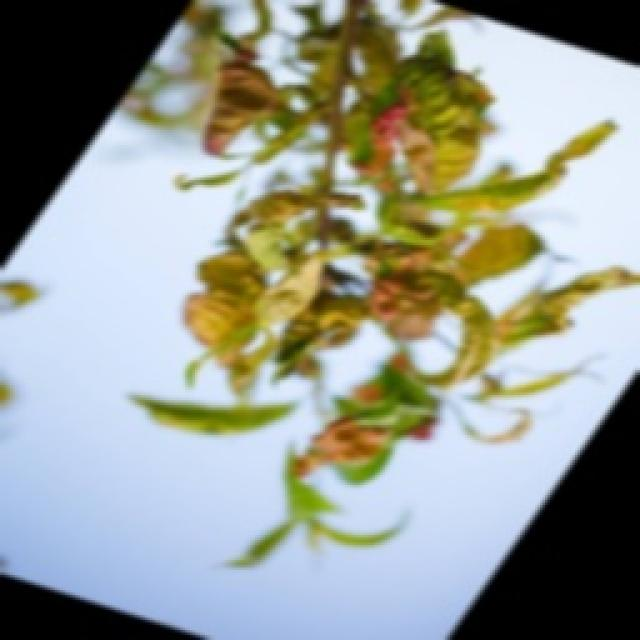Chlorosis: (122, 0, 638, 570)
